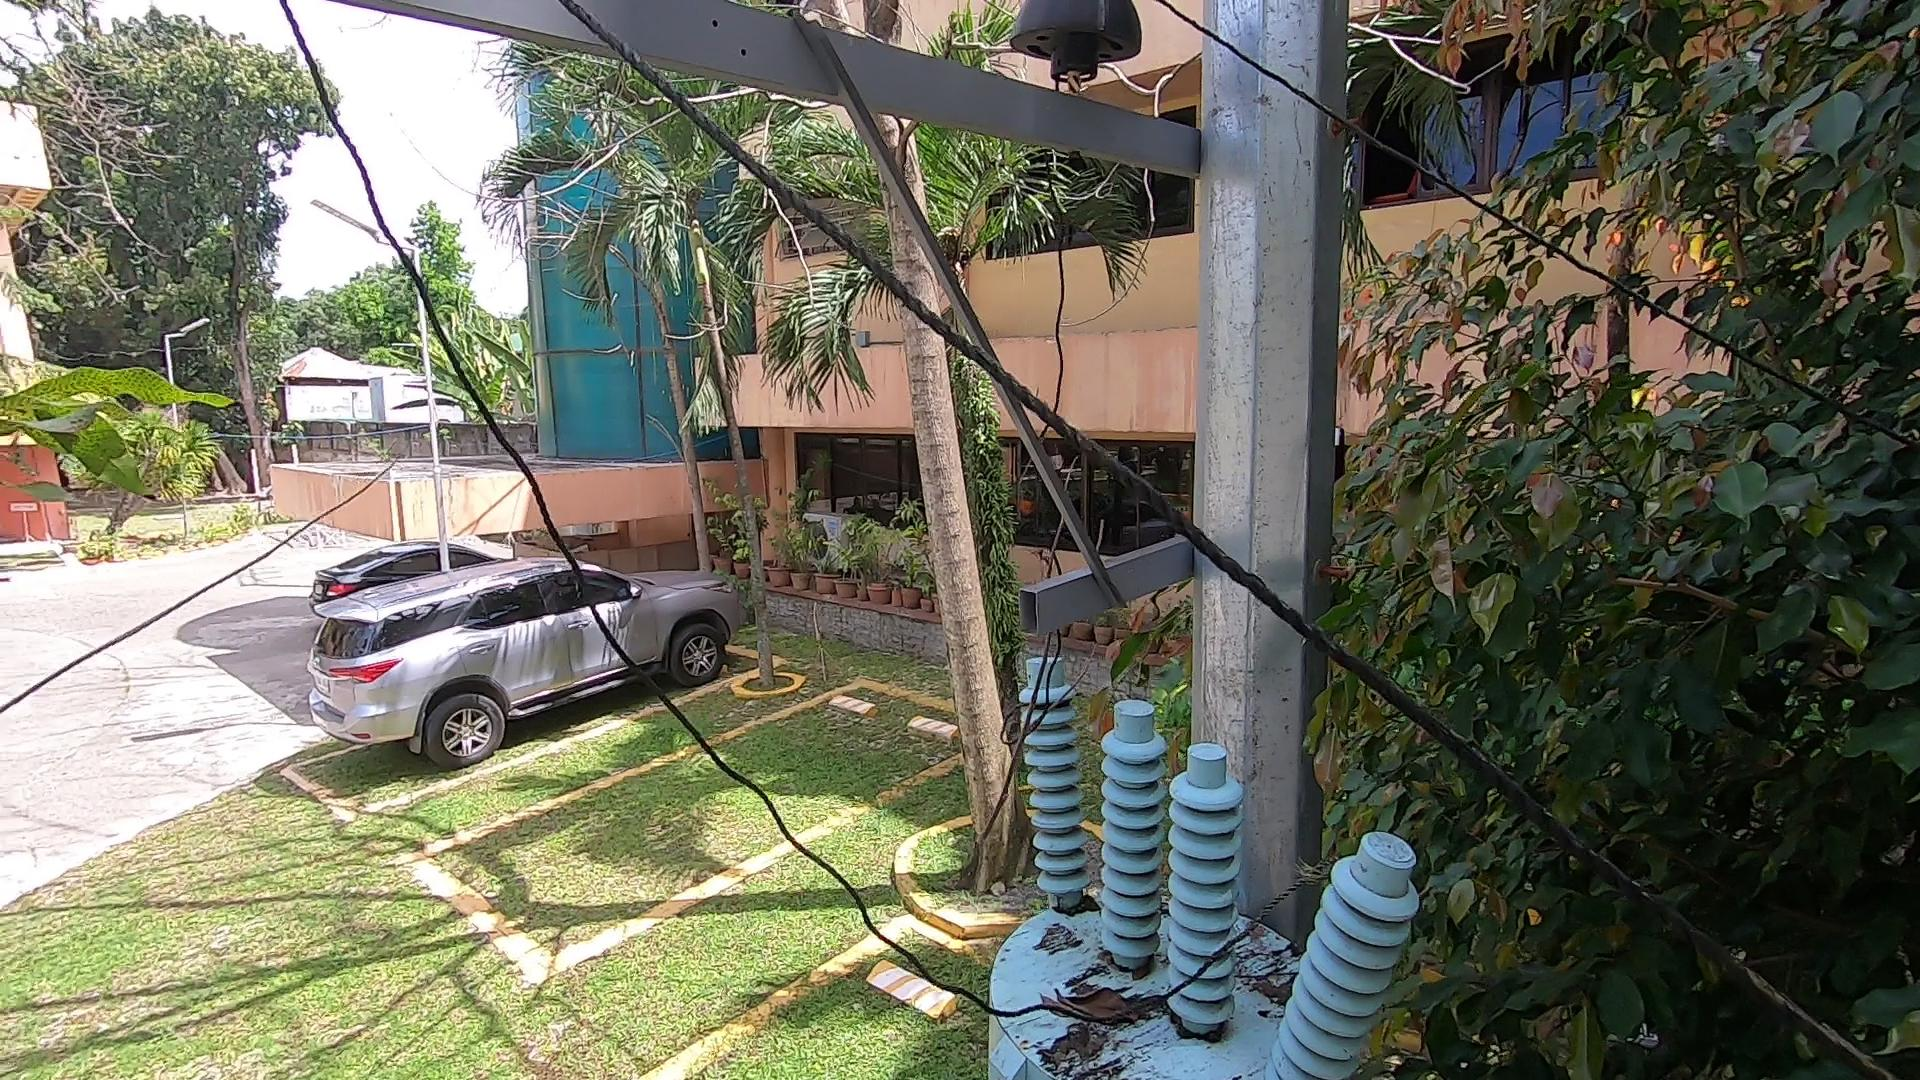leaf: (1029, 969, 1164, 1034), (1251, 968, 1308, 1009), (1042, 887, 1108, 914)
tree branch: (956, 448, 1138, 884)
